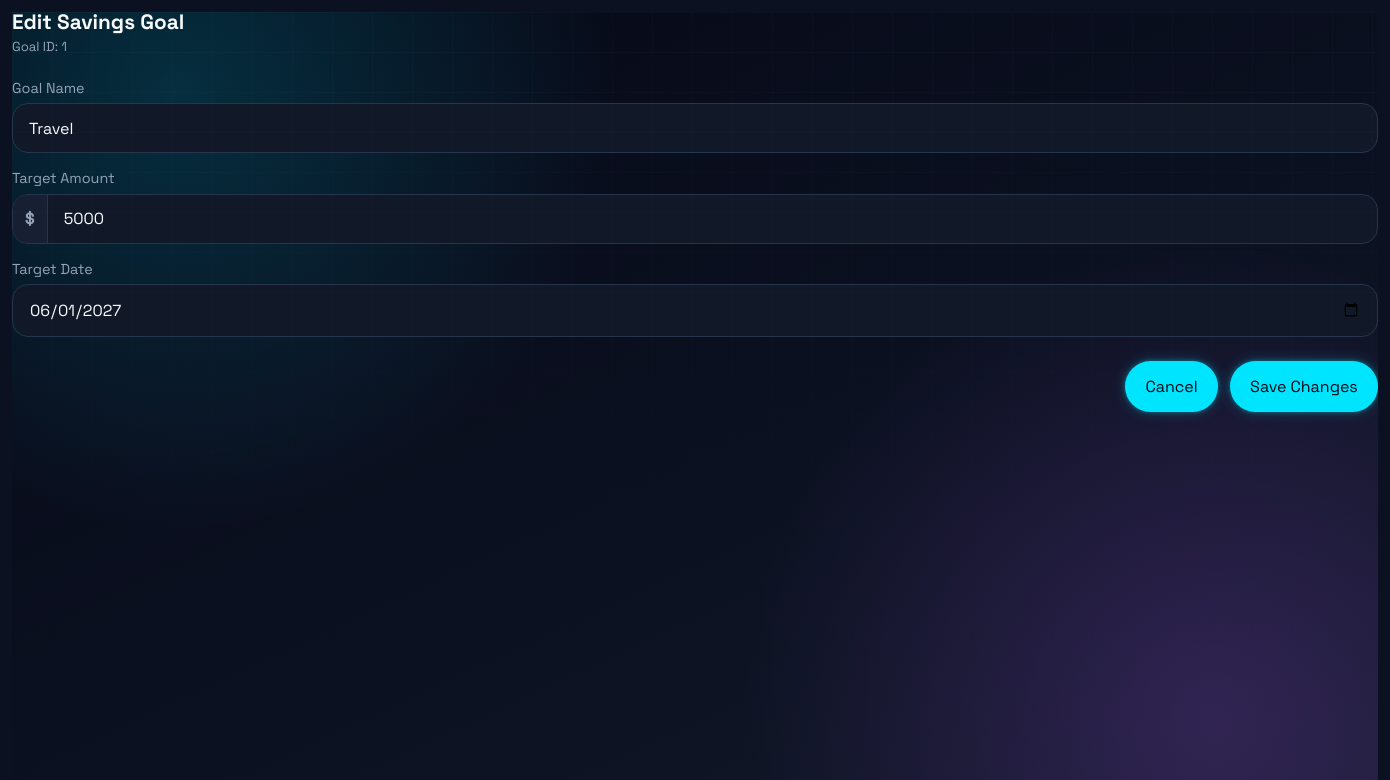
Test: GoalEditForm › shows validation error when goal name is cleared
Clear the field showing "Travel" at (695, 128), box [12,103,1378,153]
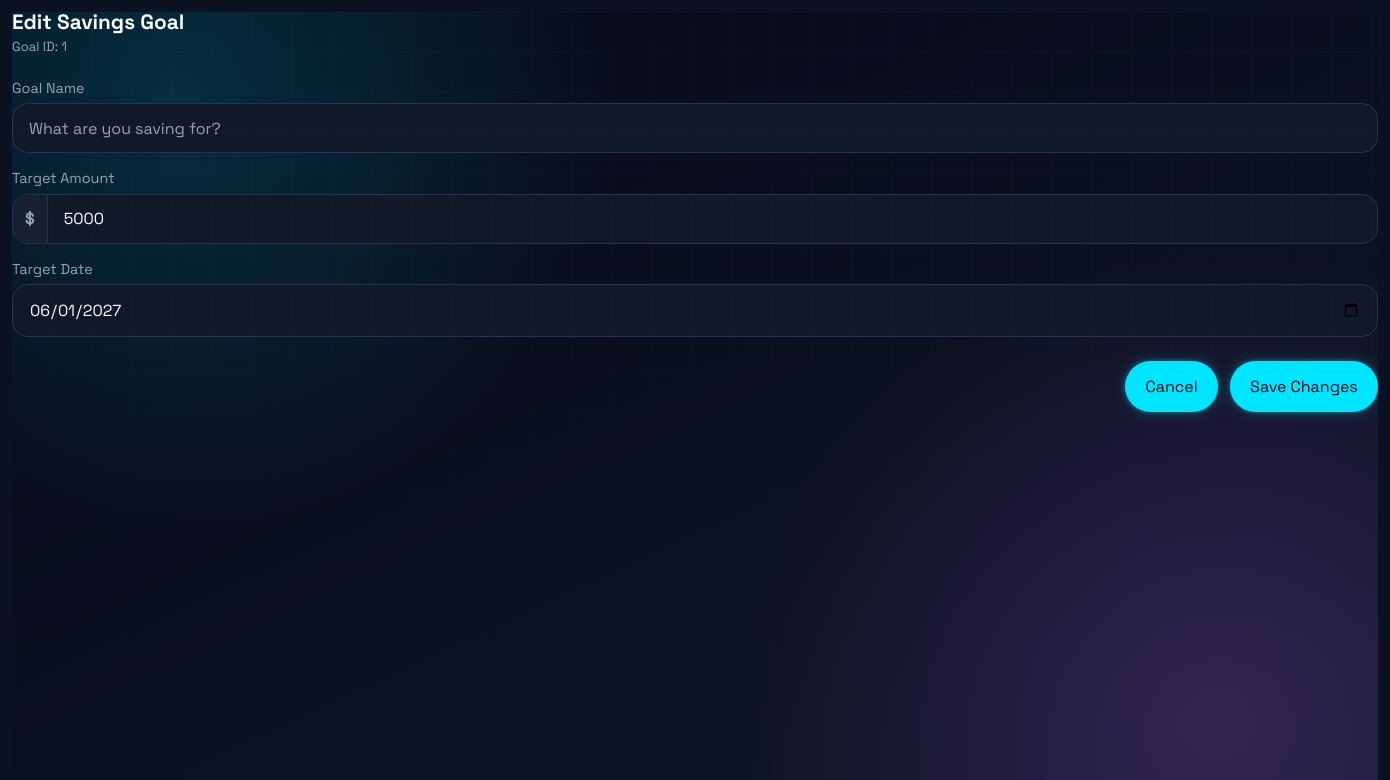
Click the button "Save Changes" at (1304, 386), box [1230,361,1378,412]
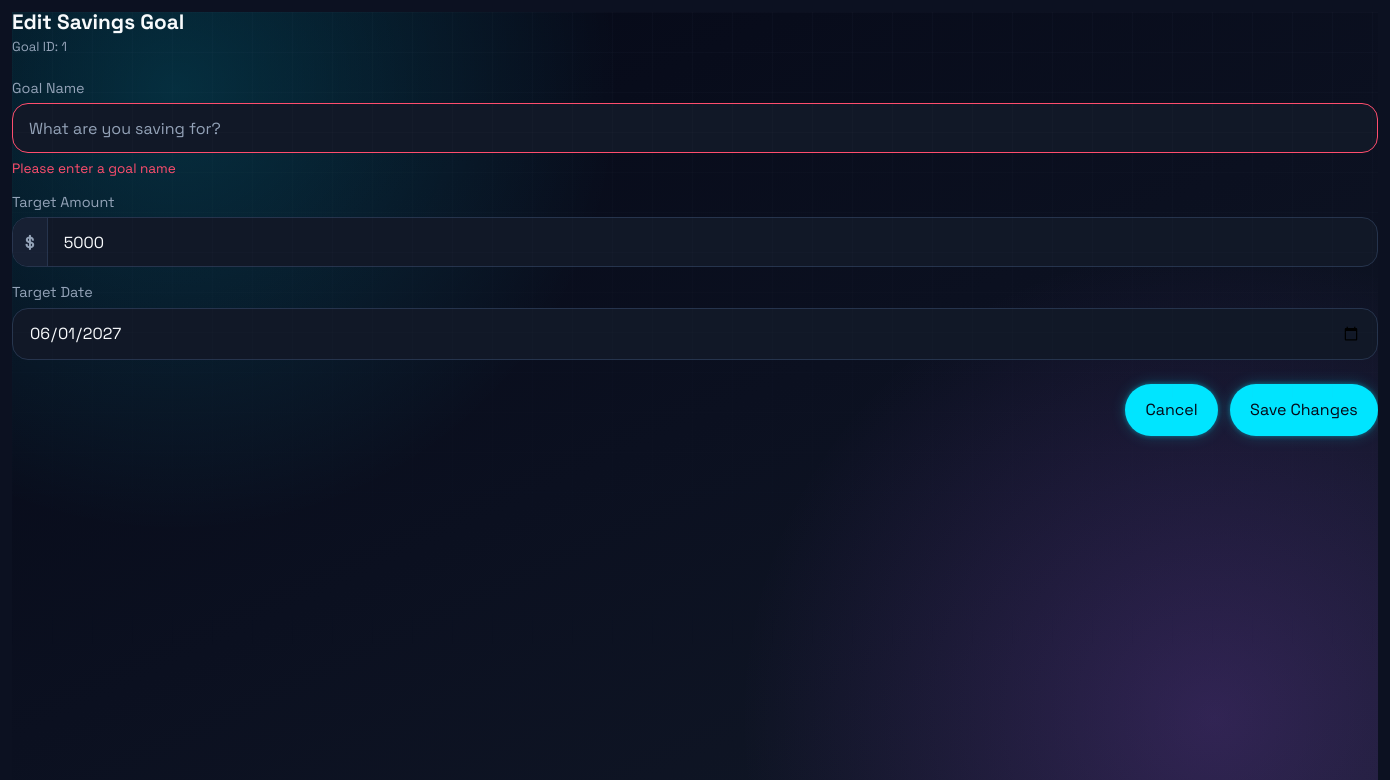
Expected: the text "Please enter a goal name" is shown, [12,160,176,177]
